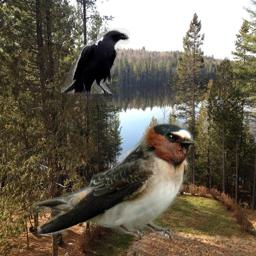Crow: (60, 28, 130, 108)
Swallow: (33, 118, 201, 242)
